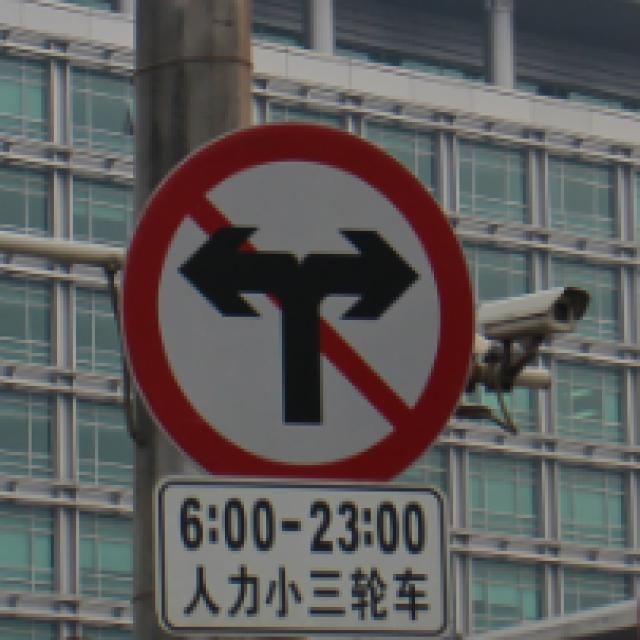Not that Direction: (124, 125, 482, 489)
